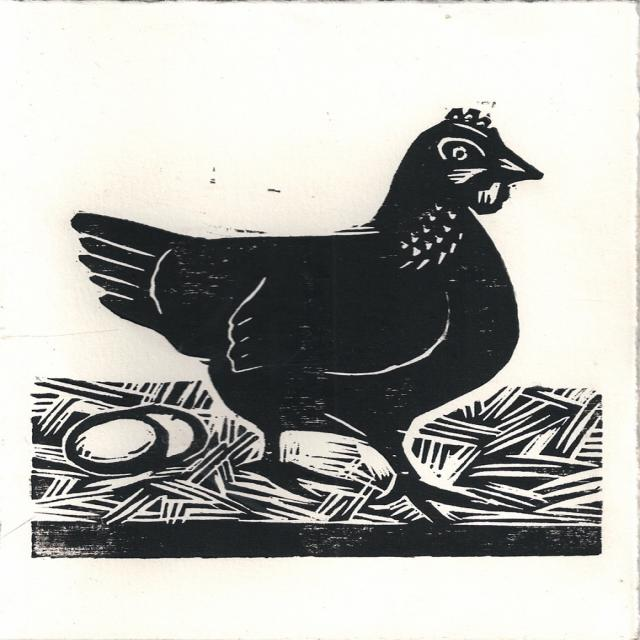Chicken: (67, 97, 540, 532)
